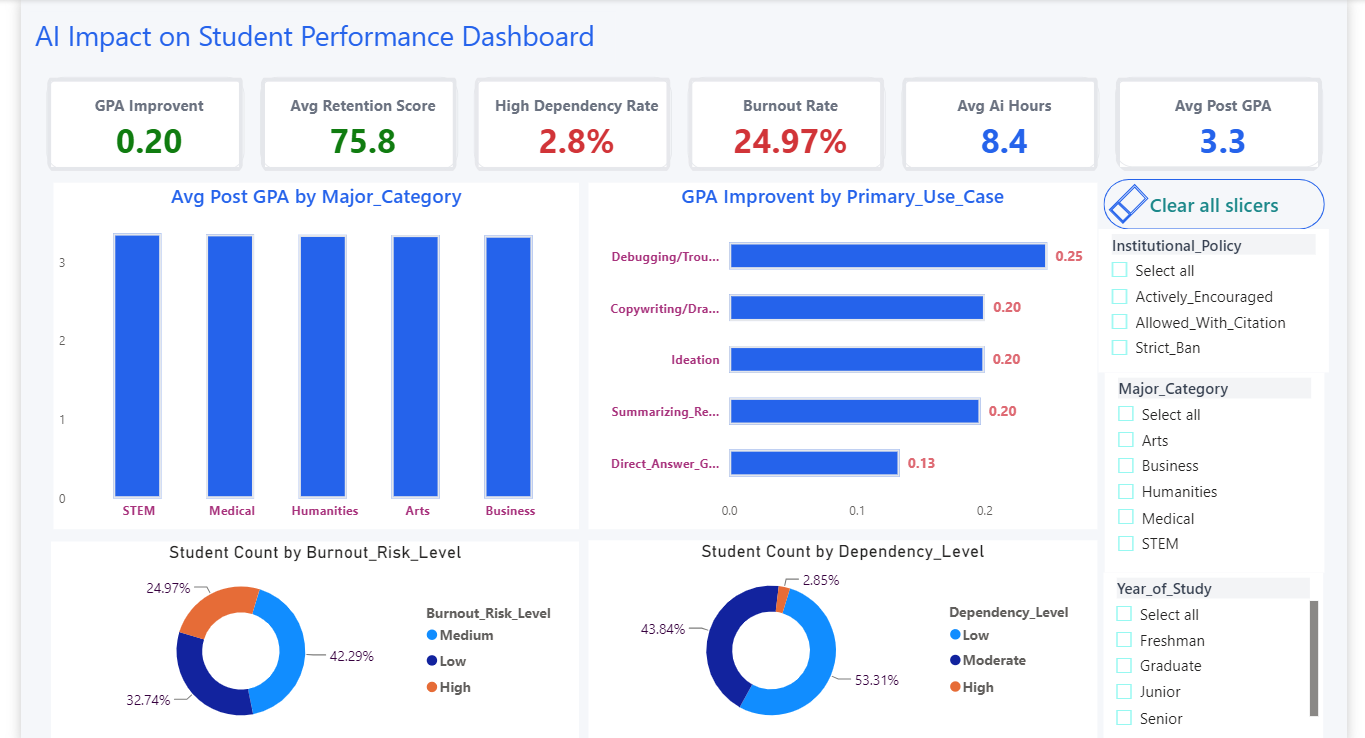

The dashboard page shown, as its layout file describes it:
{"tool":"powerbi","page":{"name":"EXECUTIVE OVERVIEW(Page 1)","canvas":[1280,720],"ordinal":0},"visuals":[{"type":"cardVisual","fields":{"Data":["ACADEMIC PERFORMANCE.GPA Improvent"]},"box":[13.7,63.7,213.6,112.4],"z":0},{"type":"cardVisual","fields":{"Data":["LEARNING EFFECTIVENESS.Avg Retention Score"]},"box":[219.8,63.7,213.6,112.4],"z":1000},{"type":"cardVisual","fields":{"Data":["LEARNING EFFECTIVENESS.High Dependency Rate"]},"box":[425.9,63.7,213.6,112.4],"z":2000},{"type":"cardVisual","fields":{"Data":["STUDENT WELL-BEING.Burnout Rate"]},"box":[632,63.7,213.6,112.4],"z":3000},{"type":"cardVisual","fields":{"Data":["Ai Adoption.Avg Ai Hours"]},"box":[838.1,63.7,213.6,112.4],"z":4000},{"type":"cardVisual","fields":{"Data":["ACADEMIC PERFORMANCE.Avg Post GPA"]},"box":[1044.2,63.7,223.6,109.9],"z":5000},{"type":"slicer","fields":{"Values":["Dim_Year.Year_of_Study"]},"box":[1044.2,553.3,212.3,161.1],"z":7000},{"type":"textbox","box":[8.7,12.5,565.8,51.2],"z":9000},{"type":"actionButton","box":[1044.2,173.6,213.6,48.7],"z":10000},{"type":"clusteredColumnChart","fields":{"Y":["ACADEMIC PERFORMANCE.Avg Post GPA"],"Category":["Dim_Major.Major_Category"]},"box":[31.2,177.4,507.1,334.7],"z":11000},{"type":"clusteredBarChart","fields":{"Category":["Dim_UseCase.Primary_Use_Case"],"Y":["ACADEMIC PERFORMANCE.GPA Improvent"]},"box":[548.3,177.4,490.9,334.7],"z":12000},{"type":"donutChart","fields":{"Y":["ACADEMIC PERFORMANCE.Student Count"],"Category":["Dim_Burnout.Burnout_Risk_Level"]},"box":[28.5,524.1,509.9,190.9],"z":13000},{"type":"donutChart","fields":{"Category":["ai_student_impact_dataset (1).Dependency_Level"],"Y":["ACADEMIC PERFORMANCE.Student Count"]},"box":[548.3,522.1,490.9,192.4],"z":14000},{"type":"slicer","fields":{"Values":["Dim_Major.Major_Category"]},"box":[1045.7,360.5,212.3,192.6],"z":15000},{"type":"slicer","fields":{"Values":["Dim_Policy.Institutional_Policy"]},"box":[1039.5,222.2,222.2,138.3],"z":16000}]}

Visuals, with their boxes on the page's 1280x720 design canvas (x1, y1, x2, y2). These are canvas units, not pixel positions in the 1365x738 screenshot, which may show the page scaled, cropped or inside an application window:
cardVisual - ACADEMIC PERFORMANCE.GPA Improvent: <region>14, 64, 227, 176</region>
cardVisual - LEARNING EFFECTIVENESS.Avg Retention Score: <region>220, 64, 433, 176</region>
cardVisual - LEARNING EFFECTIVENESS.High Dependency Rate: <region>426, 64, 640, 176</region>
cardVisual - STUDENT WELL-BEING.Burnout Rate: <region>632, 64, 846, 176</region>
cardVisual - Ai Adoption.Avg Ai Hours: <region>838, 64, 1052, 176</region>
cardVisual - ACADEMIC PERFORMANCE.Avg Post GPA: <region>1044, 64, 1268, 174</region>
slicer - Dim_Year.Year_of_Study: <region>1044, 553, 1256, 714</region>
textbox: <region>9, 12, 574, 64</region>
actionButton: <region>1044, 174, 1258, 222</region>
clusteredColumnChart - ACADEMIC PERFORMANCE.Avg Post GPA x Dim_Major.Major_Category: <region>31, 177, 538, 512</region>
clusteredBarChart - Dim_UseCase.Primary_Use_Case x ACADEMIC PERFORMANCE.GPA Improvent: <region>548, 177, 1039, 512</region>
donutChart - ACADEMIC PERFORMANCE.Student Count x Dim_Burnout.Burnout_Risk_Level: <region>28, 524, 538, 715</region>
donutChart - ai_student_impact_dataset (1).Dependency_Level x ACADEMIC PERFORMANCE.Student Count: <region>548, 522, 1039, 714</region>
slicer - Dim_Major.Major_Category: <region>1046, 360, 1258, 553</region>
slicer - Dim_Policy.Institutional_Policy: <region>1040, 222, 1262, 360</region>
